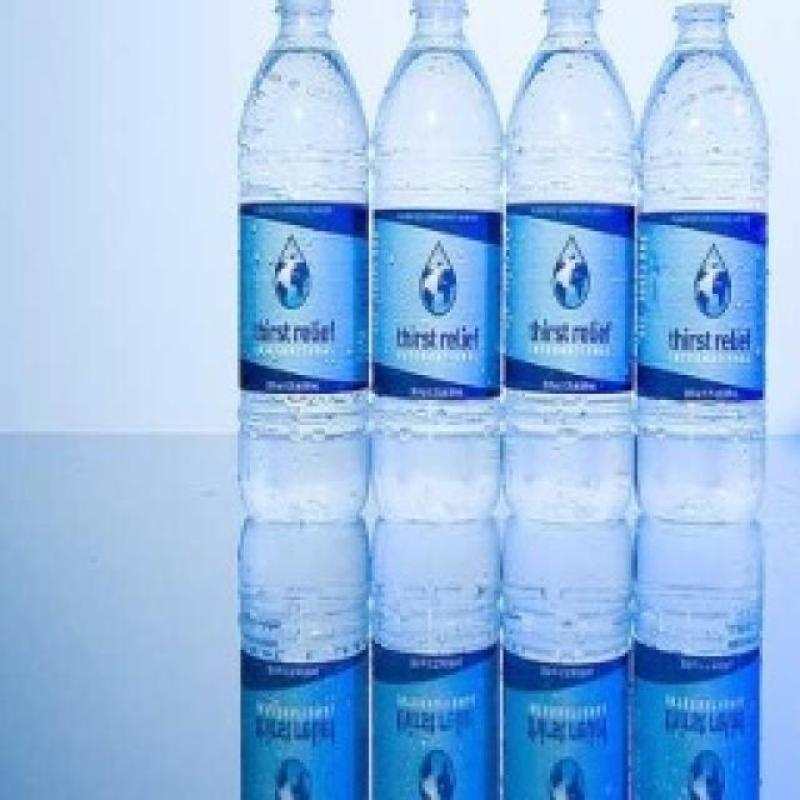botella: (503, 0, 638, 435), (238, 0, 372, 438), (370, 0, 505, 431), (638, 0, 768, 440)
